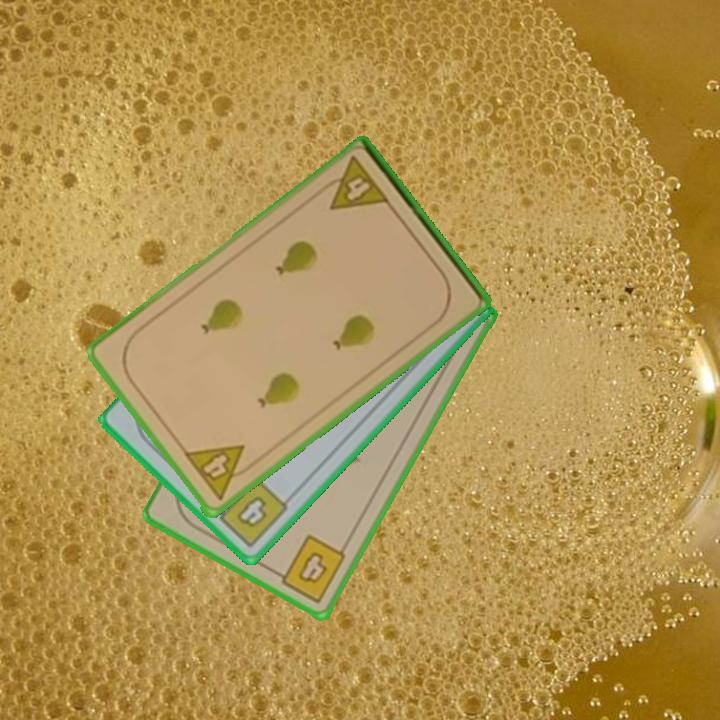4b: (209, 475, 291, 551), (269, 531, 349, 606)
4p: (180, 441, 259, 503), (315, 152, 393, 214)
